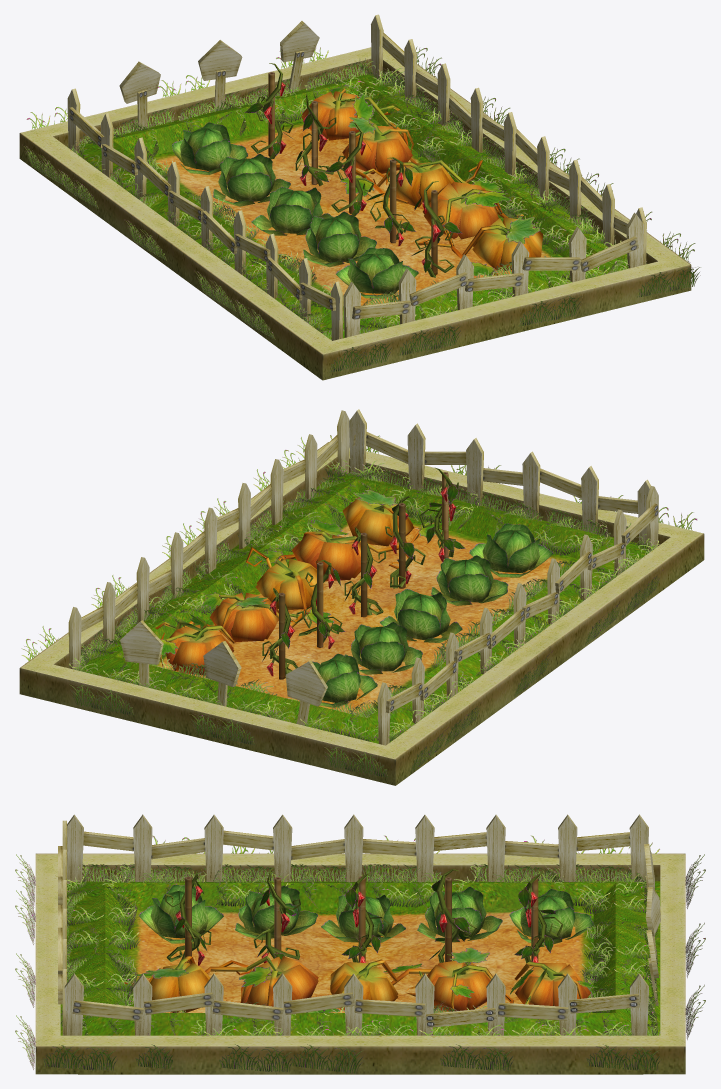
Rendered from a_SEgarden01.glb.
3 renders of one model, top to bottom at view 1: azimuth 30°, elevation 25°; view 2: azimuth 150°, elevation 25°; view 3: azimuth 270°, elevation 25°, orthographic. The views are drawn at different scales.
Parts seen in each view (by area): view 1: a_SEgarden01; view 2: a_SEgarden01; view 3: a_SEgarden01.
Part boxes in pixels (box(x1,y1,x2,y2)): a_SEgarden01: box(19, 14, 700, 380); a_SEgarden01: box(19, 409, 704, 785); a_SEgarden01: box(15, 814, 705, 1074).
Size of the model in its own units: 4.93 by 1.21 by 6.85.
Materials: 3 (3 with a texture image).
